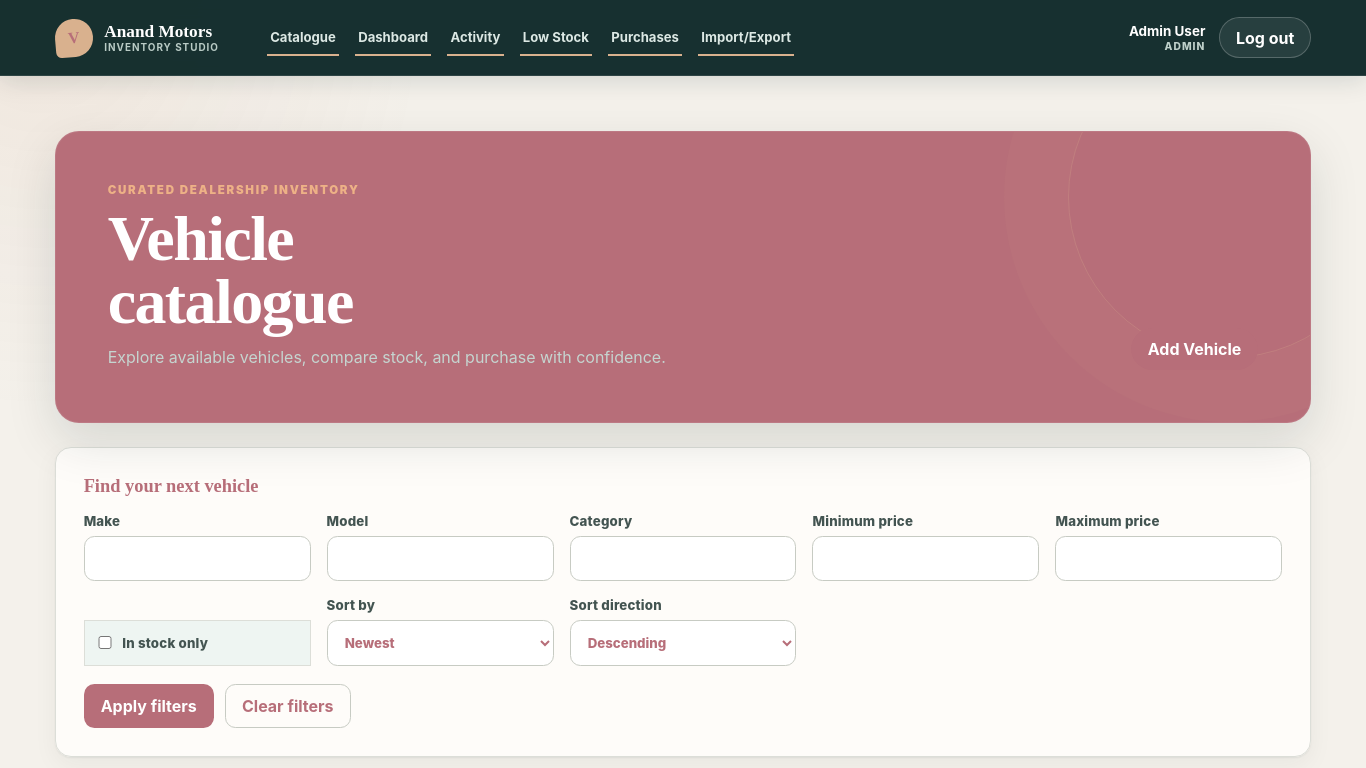
Test: administrator vehicle creation › rejects a negative price and decimal quantity before creating
Click the button "Add Vehicle" at (1195, 349), box [1131,328,1258,370]
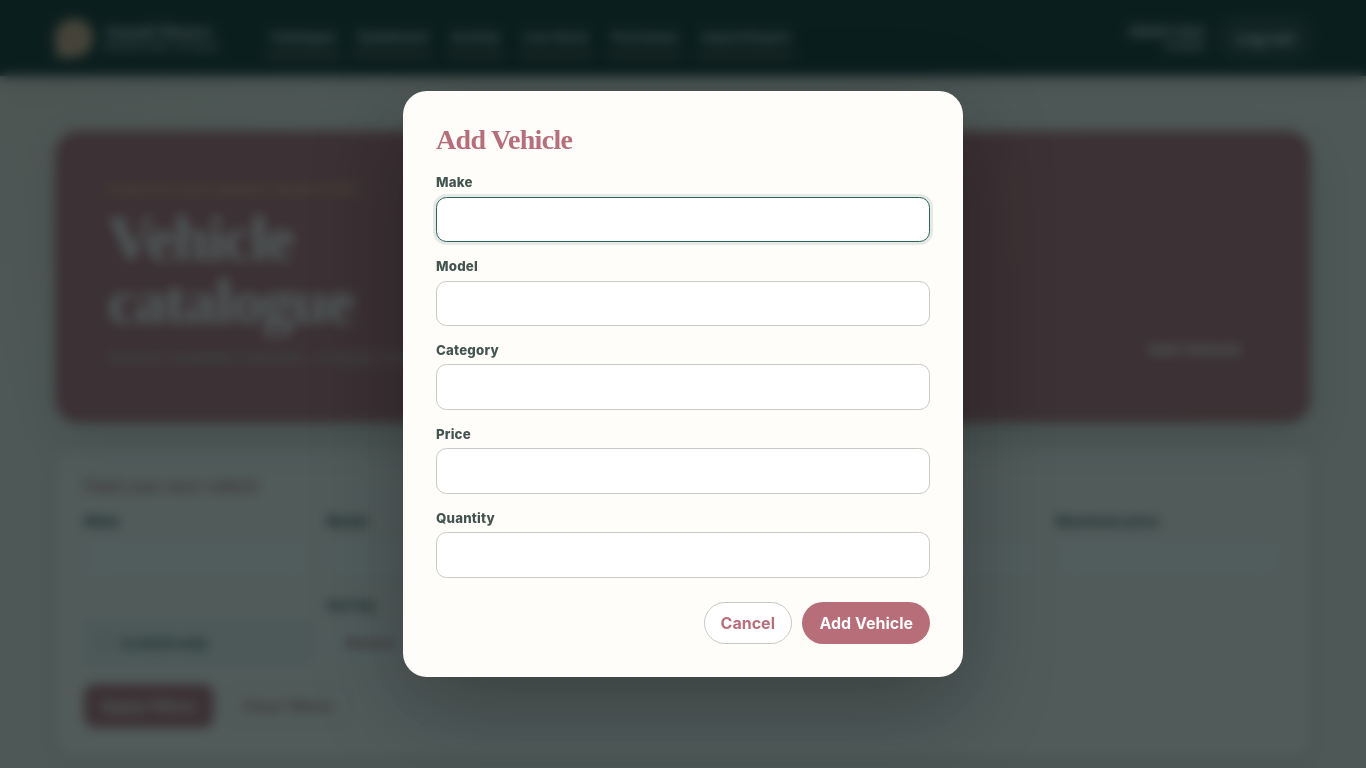
Type "Honda" into the field labelled "Make" at (683, 219), box [436,196,930,242]
Type "City" into the field labelled "Model" at (683, 303), box [436,280,930,326]
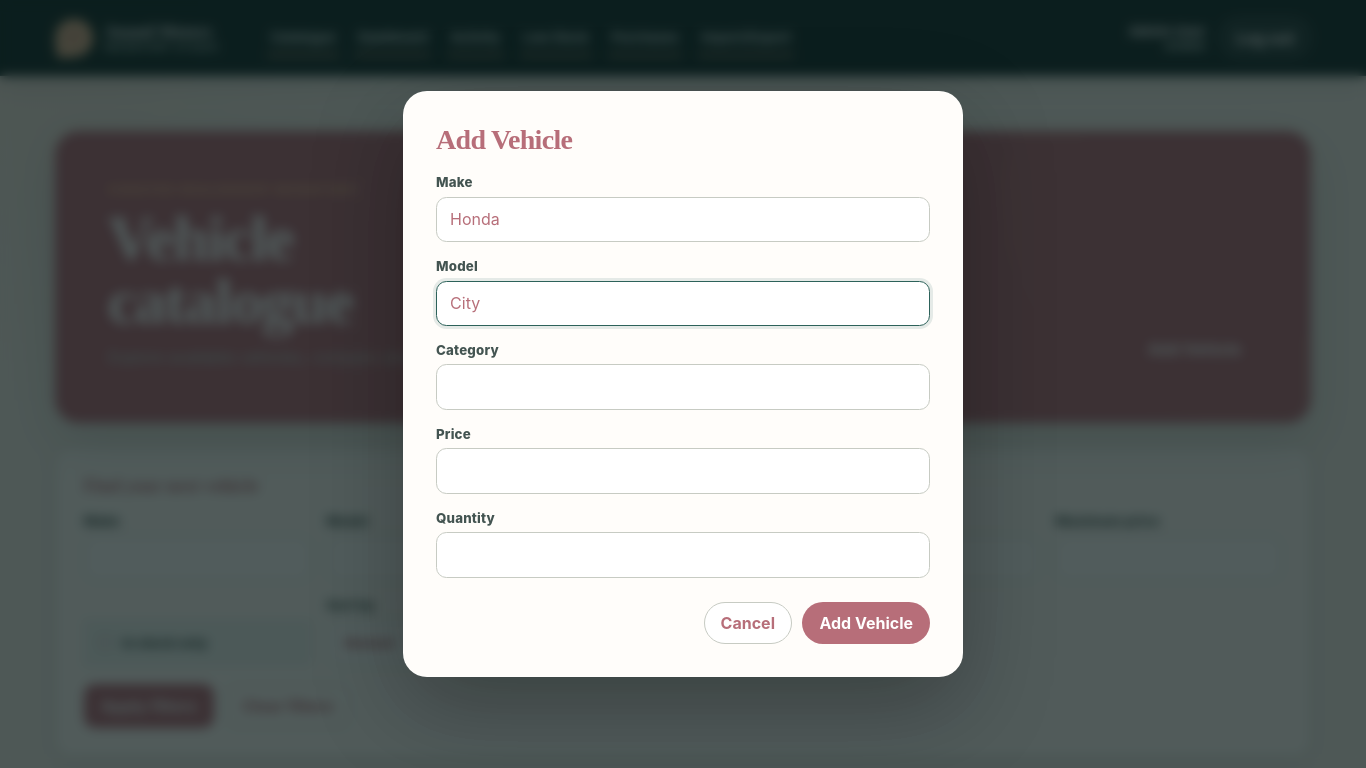
Type "Sedan" into the field labelled "Category" at (683, 387), box [436,364,930,410]
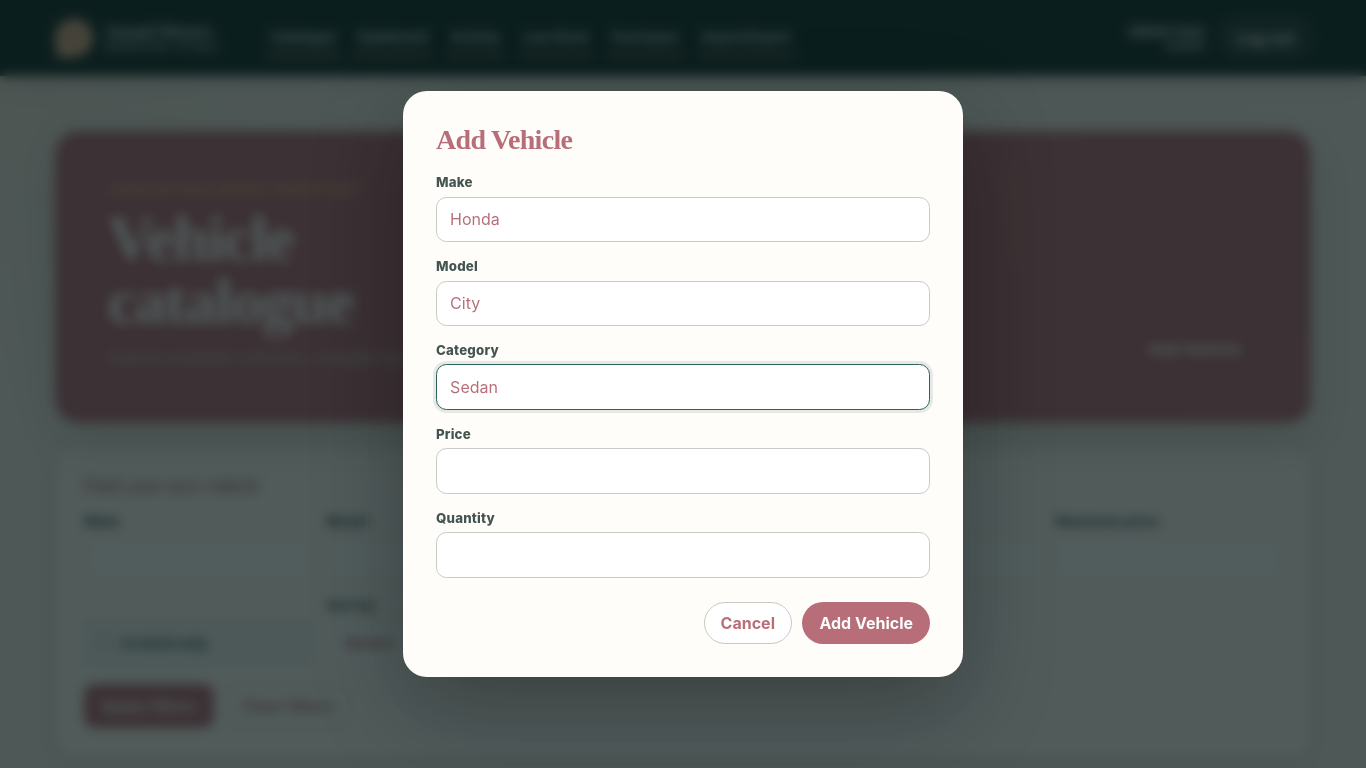
Type "-10" into the number field labelled "Price" at (683, 471), box [436,448,930,494]
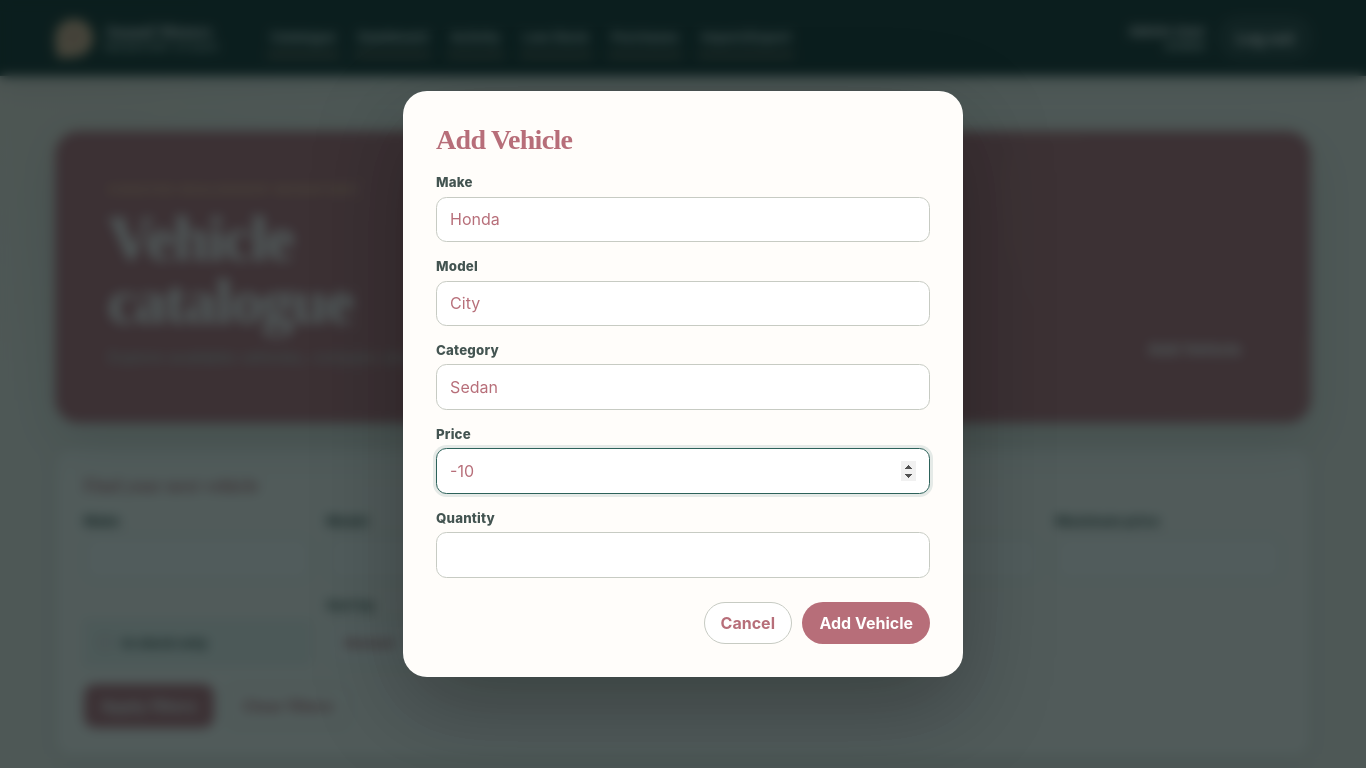
Type "1.5" into the number field labelled "Quantity" at (683, 555), box [436,532,930,578]
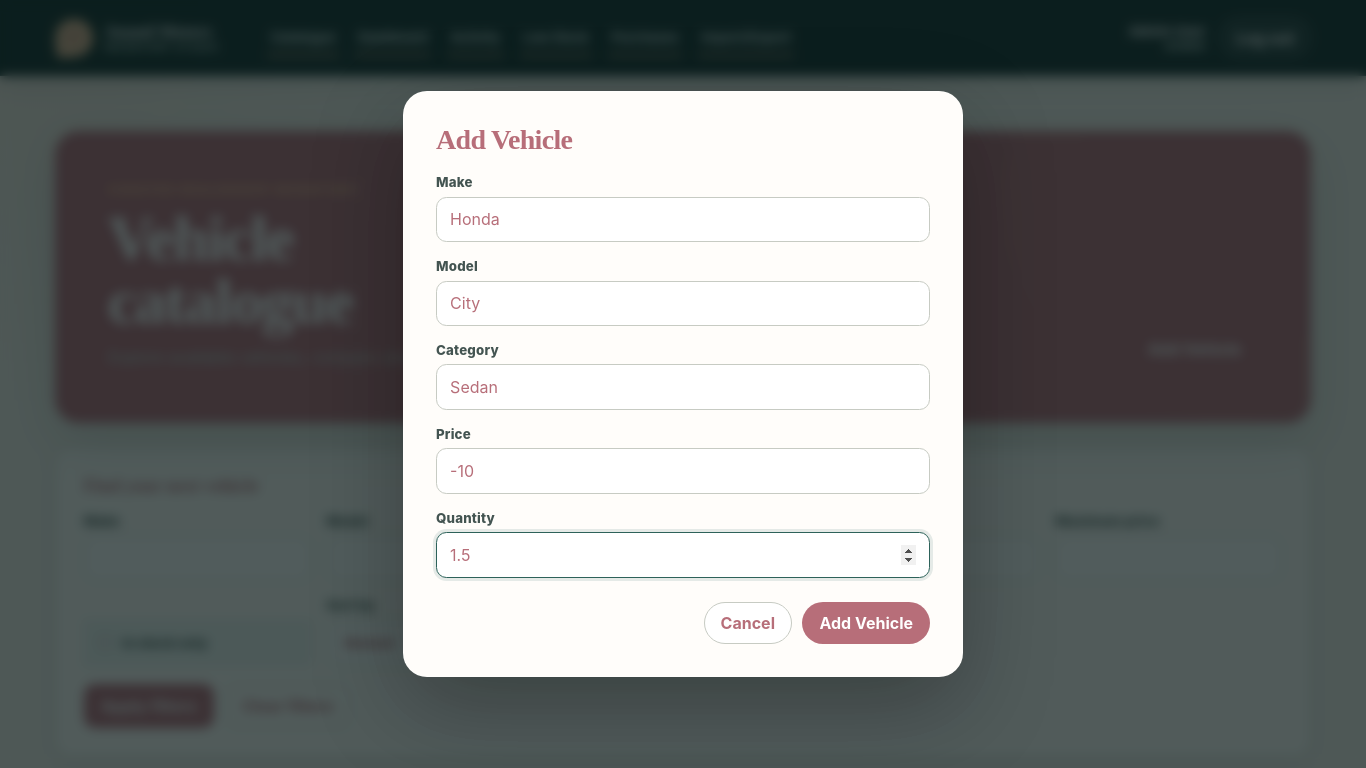
Click the button "Add Vehicle" at (866, 623), box [802,602,930,644]
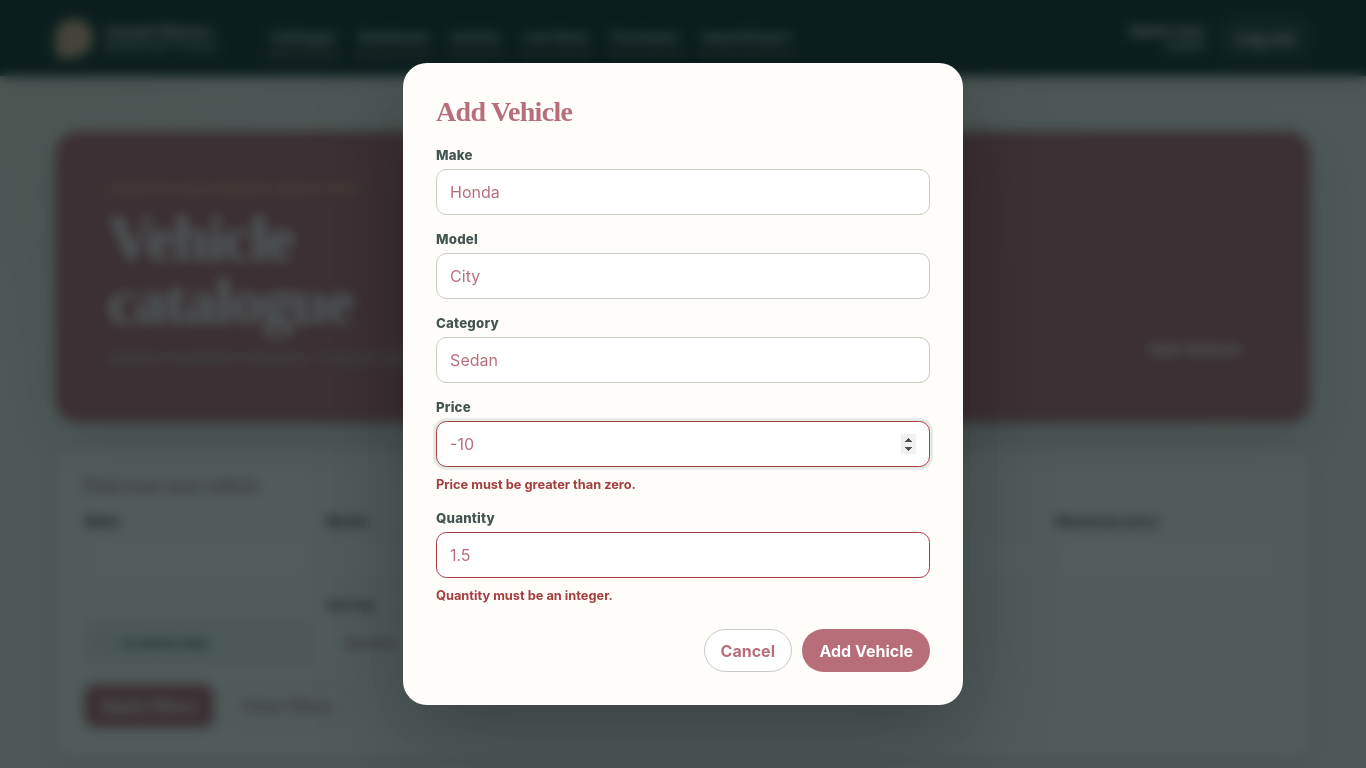
Result: the text "Price must be greater than zero." is shown at [436,476,636,492]
Result: the text "Quantity must be an integer." is shown at [436,588,613,603]
